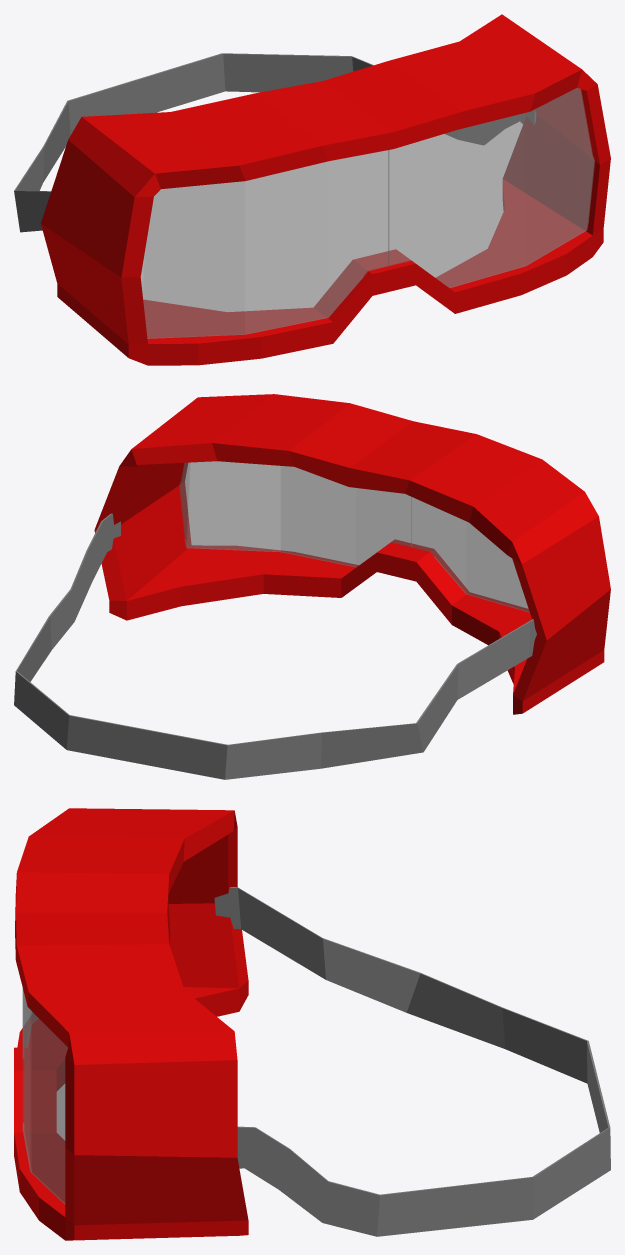
The model's file is goggles.fbx.
The picture shows the model from 3 angles, top to bottom: view 1: azimuth 30°, elevation 25°; view 2: azimuth 150°, elevation 25°; view 3: azimuth 270°, elevation 25°; orthographic projection. The views are drawn at different scales.
Parts seen in each view (by area): view 1: polySurface1; view 2: polySurface1; view 3: polySurface1.
Boxes of the visible parts, <box> form: polySurface1: <box>14,14,610,365</box>; polySurface1: <box>14,394,610,779</box>; polySurface1: <box>14,808,610,1240</box>.
Size of the model in its own units: 24.14 by 9.21 by 23.2.
